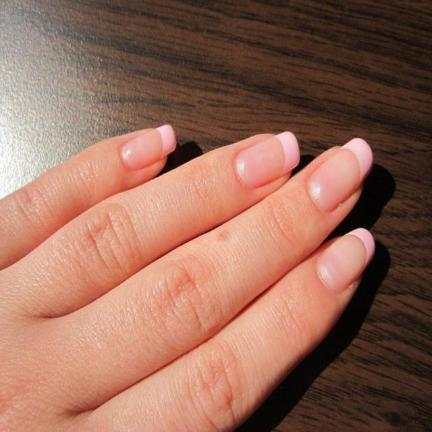Nail: (307, 137, 373, 212), (316, 228, 375, 293), (235, 131, 300, 189), (120, 124, 177, 171)
